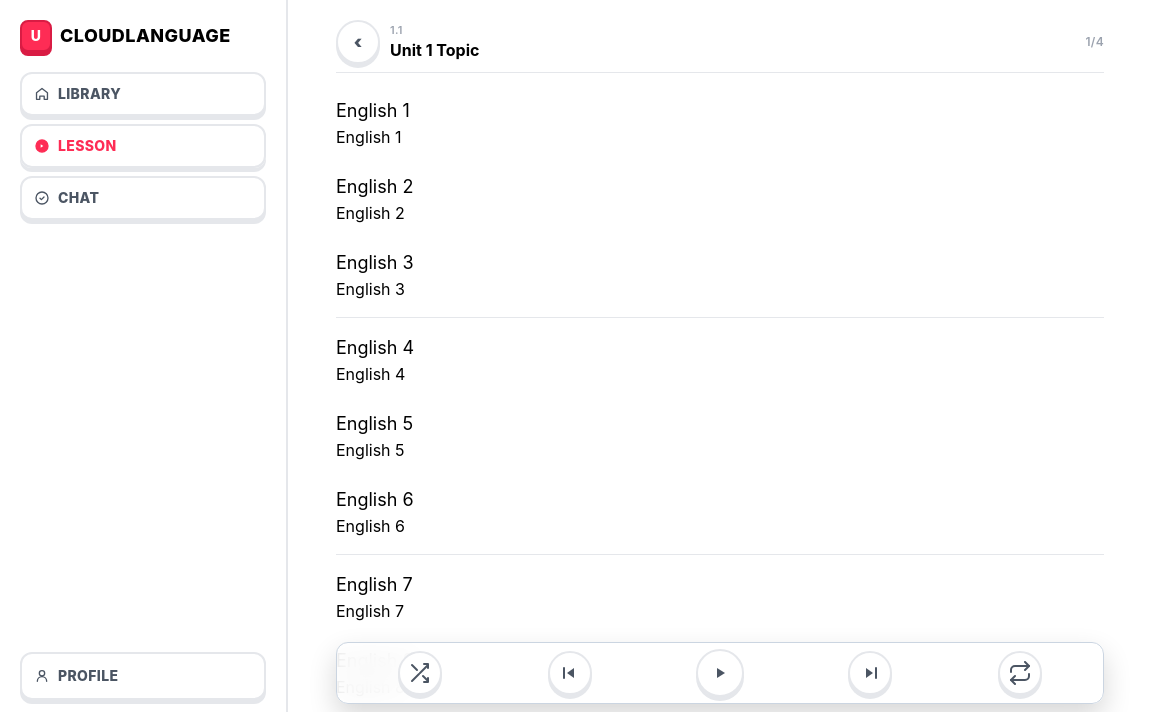
Test: App lesson navigation guard › moves to previous unit start when previous is clicked at unit start
Expected: the button named "Next" is shown, [848, 651, 892, 695]
Click the button "Library".
click(143, 94)  # box [20, 72, 266, 116]
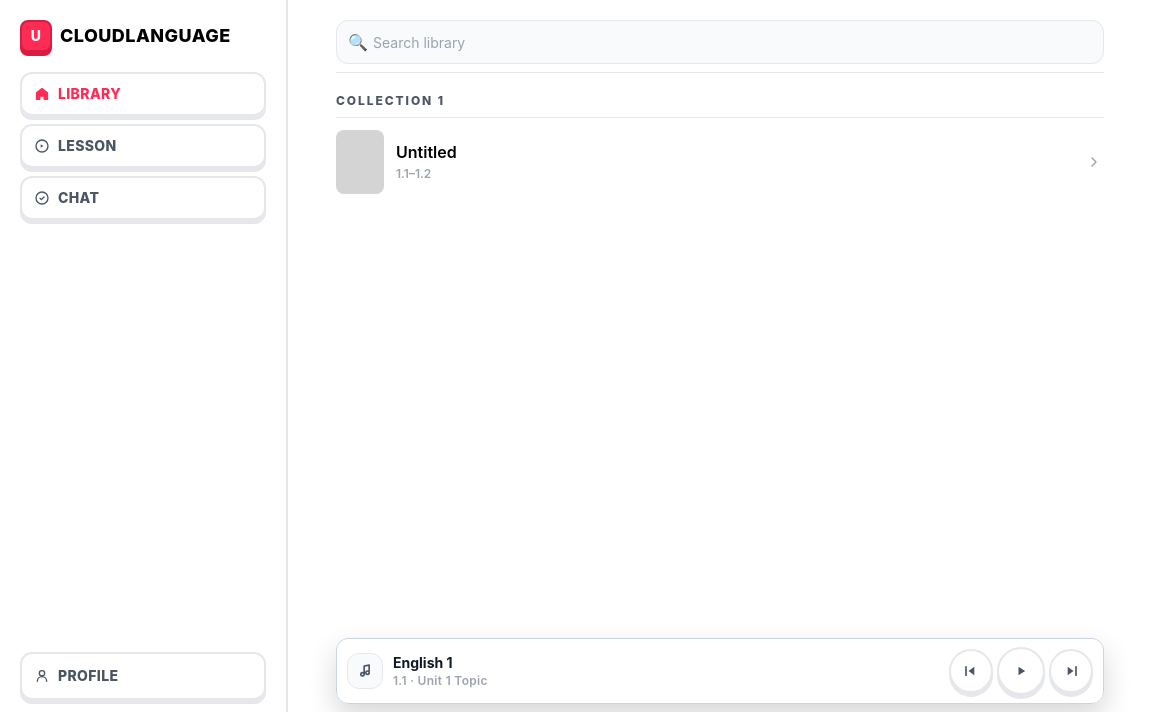
Click the button with aria-label "open group".
click(360, 162)  # box [336, 118, 1104, 206]
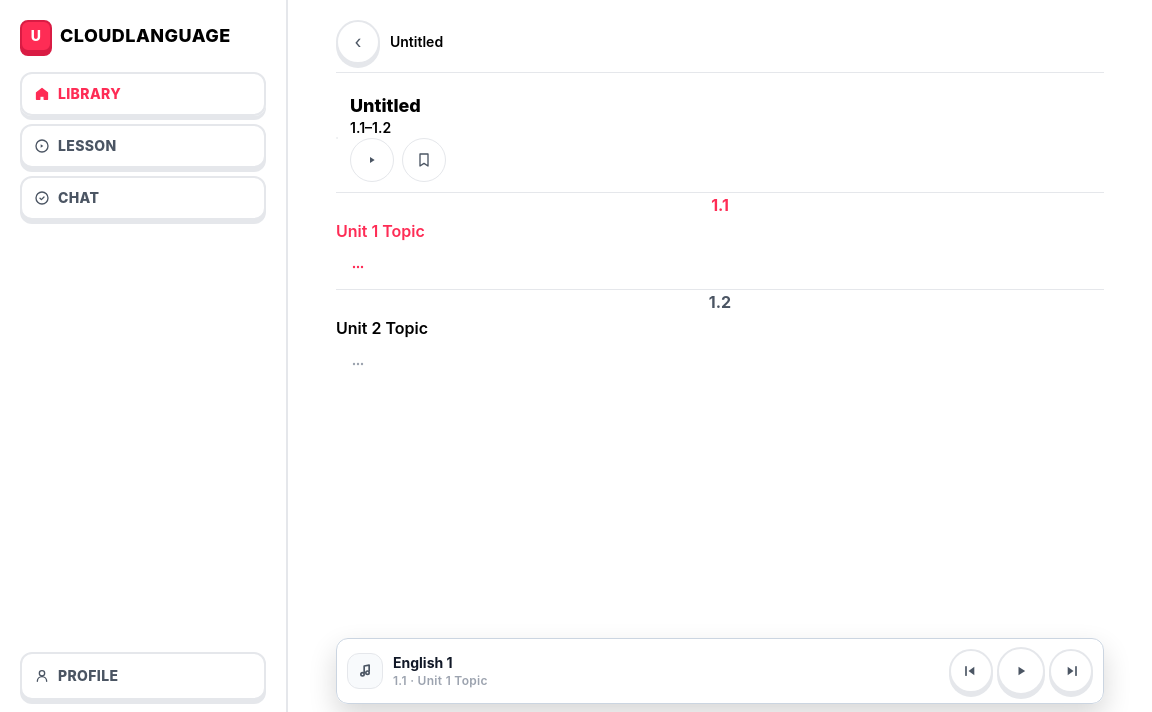
Click the button "1.2 Unit 2 Topic".
click(382, 328)  # box [336, 288, 1104, 386]
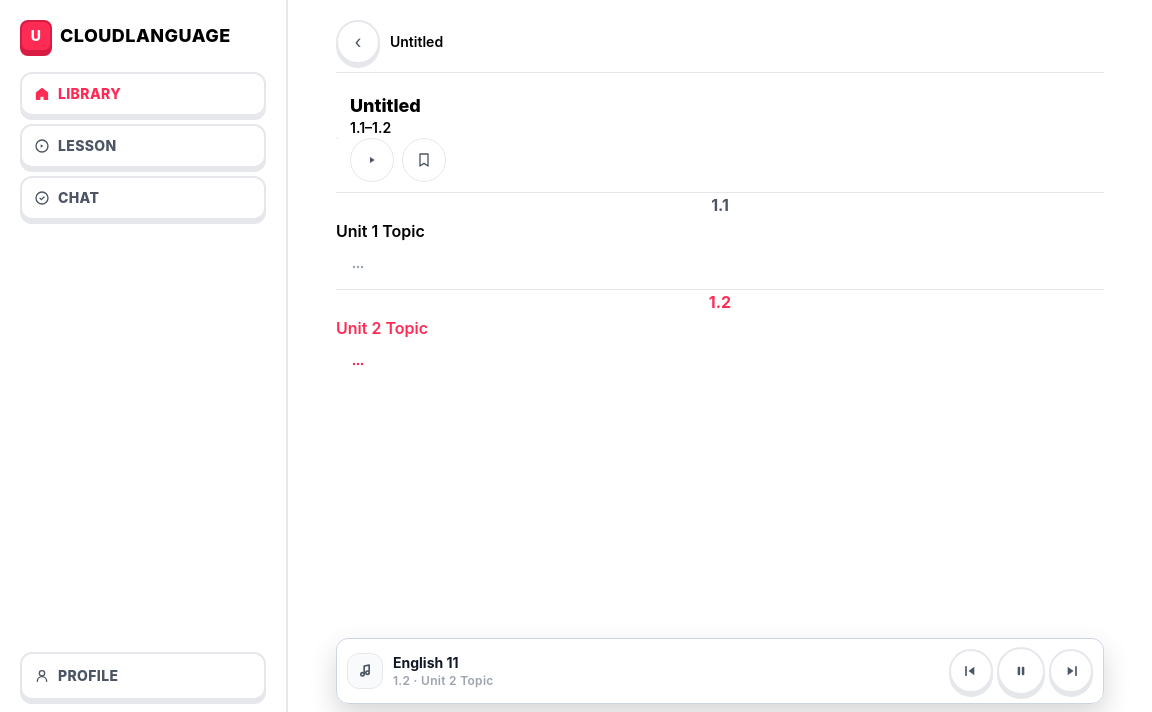
Click the button "Lesson".
click(143, 146)  # box [20, 124, 266, 168]
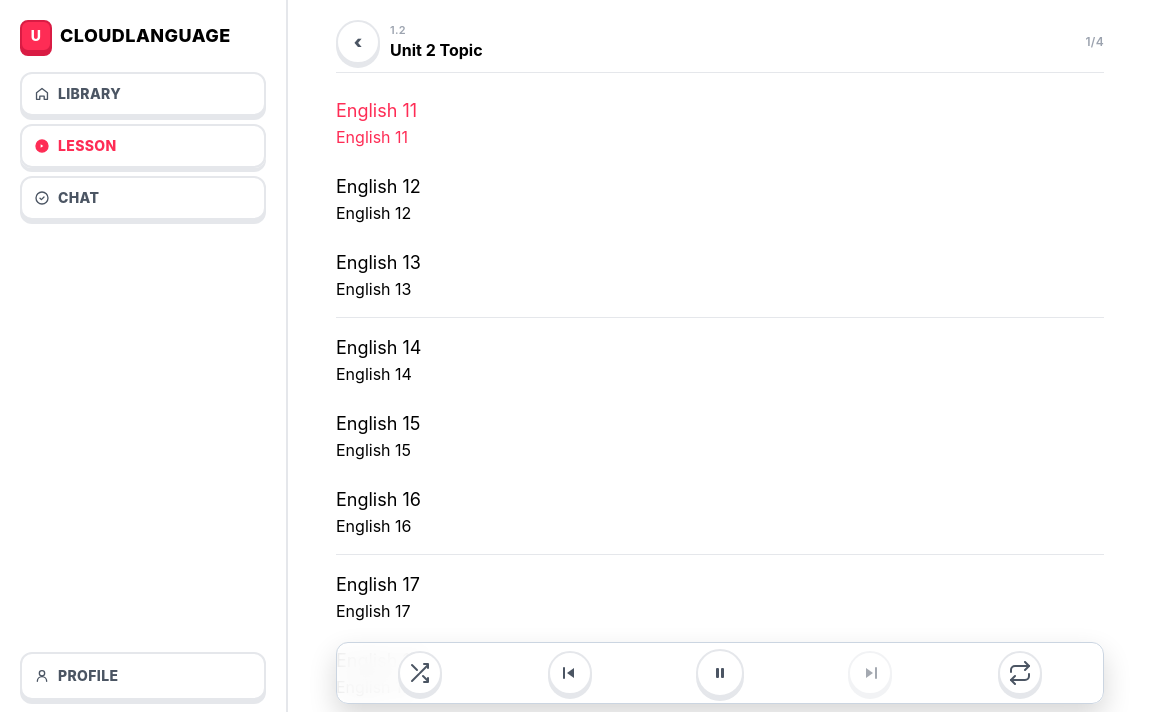
Now the text "Unit 2 Topic" is shown, box [390, 38, 483, 62]
Now the text "1.2" is shown, box [390, 23, 406, 37]
Now the text "1/4" is shown, box [1086, 34, 1104, 50]
Click the button named "Previous".
click(570, 673)  # box [548, 651, 592, 695]
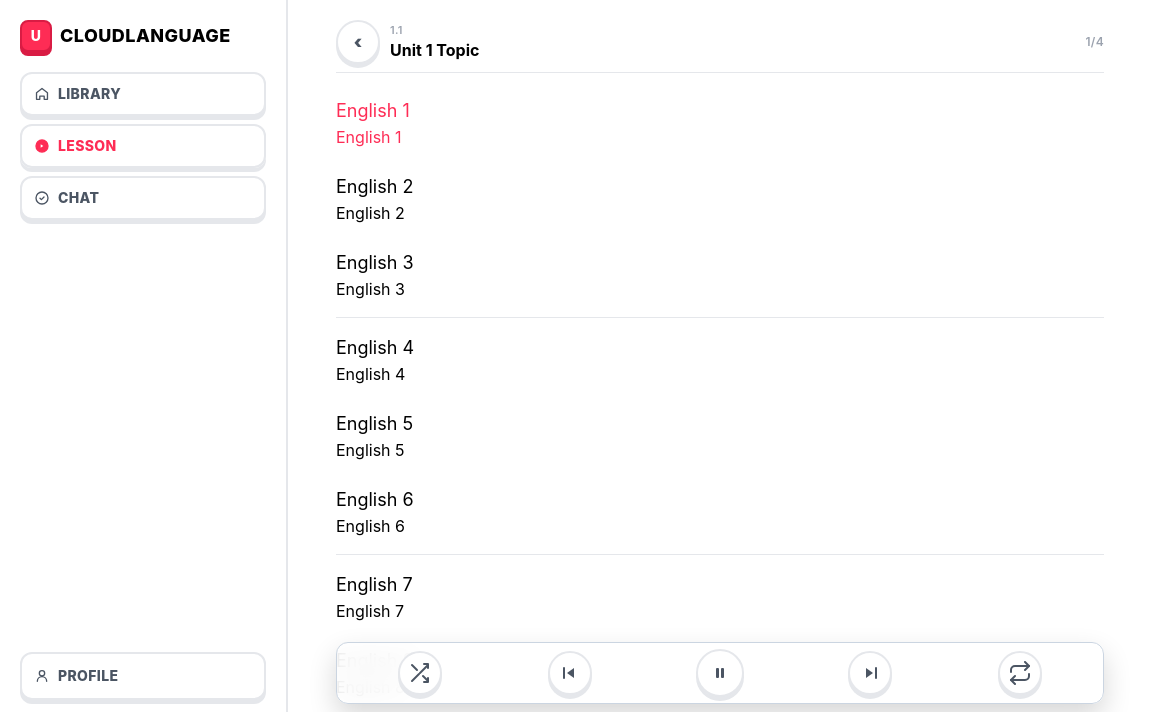
Now the text "1/4" is shown, box [1086, 34, 1104, 50]
Now the text "Unit 1 Topic" is shown, box [390, 38, 479, 62]
Now the text "1.1" is shown, box [390, 23, 403, 37]
